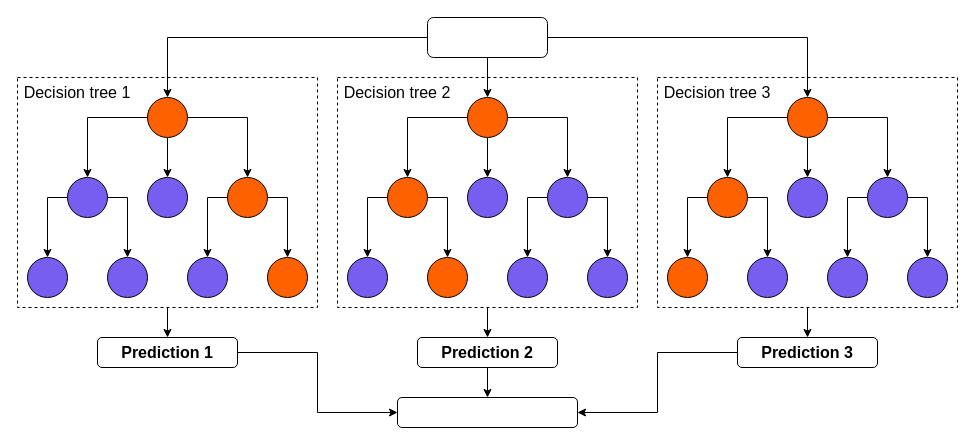
Some shapes in this 975 by 445 pixel diagram are drawn without their labels. Here are the shapes that lost their labels. From the top down, the box of each, then its label:
(426, 16, 548, 58): Dataset
(396, 396, 578, 428): Average prediction
